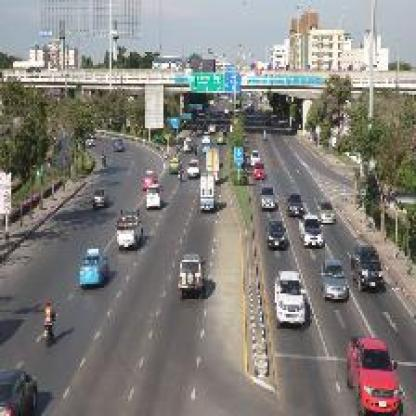other: (340, 334, 410, 407), (132, 162, 165, 192), (245, 160, 270, 173)
